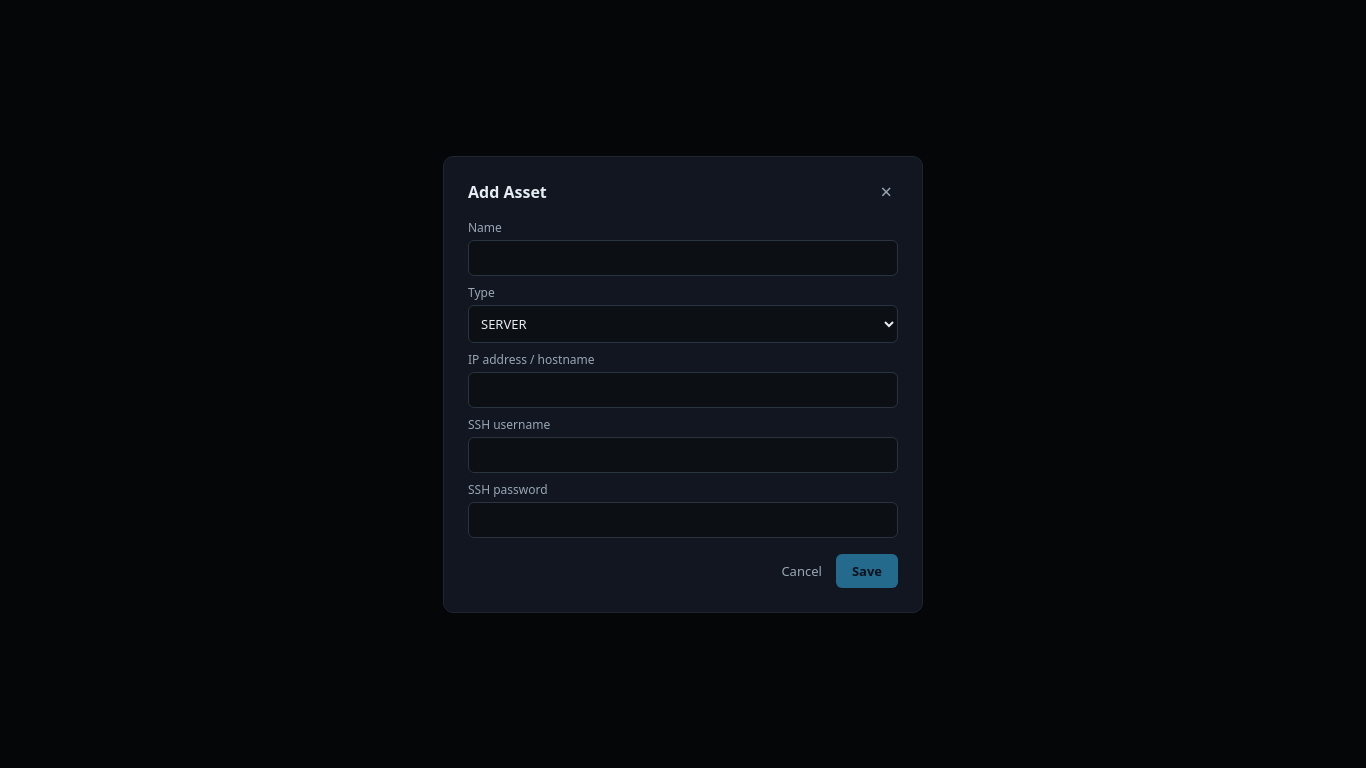
CreateAssetModalComponent › shows a general error for a non-409 failure and keeps the modal open
Type "web-server-01" into the field with test id "form-name".
click(683, 258); type("web-server-01")  # box [468,240,898,276]
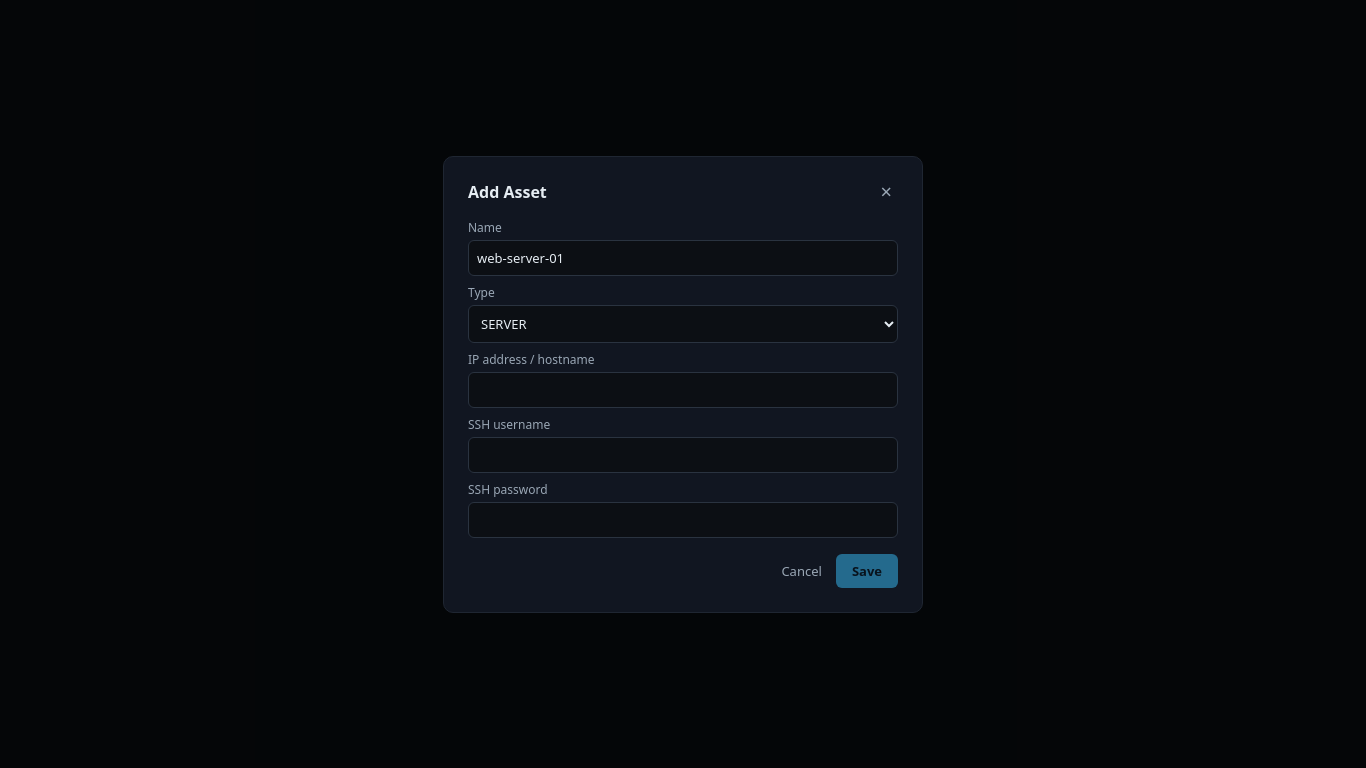
Select "SERVER" in the dropdown with test id "form-type" at (683, 324), box [468,304,898,342]
Type "192.168.1.10" into the field with test id "form-ip".
click(683, 390); type("192.168.1.10")  # box [468,372,898,408]
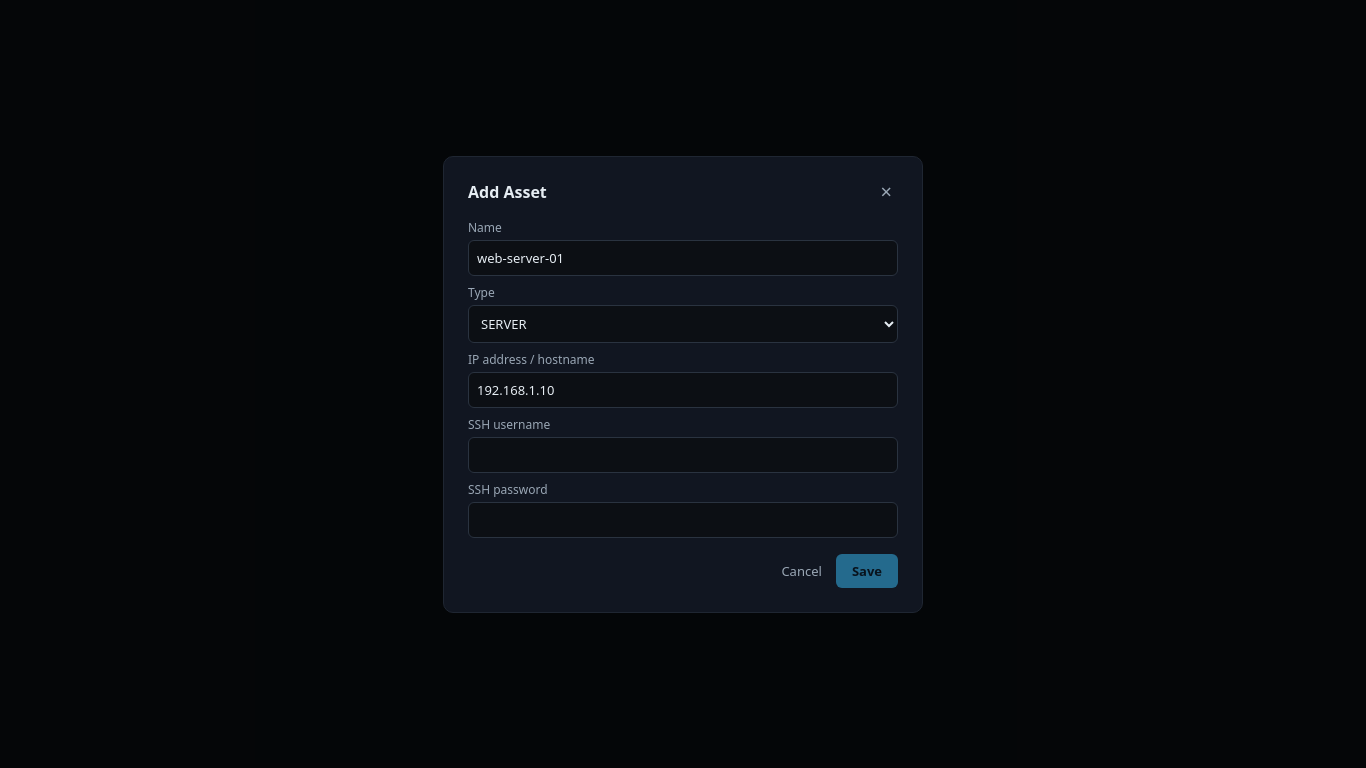
Type "sshuser" into the field with test id "form-username".
click(683, 454); type("sshuser")  # box [468,436,898,472]
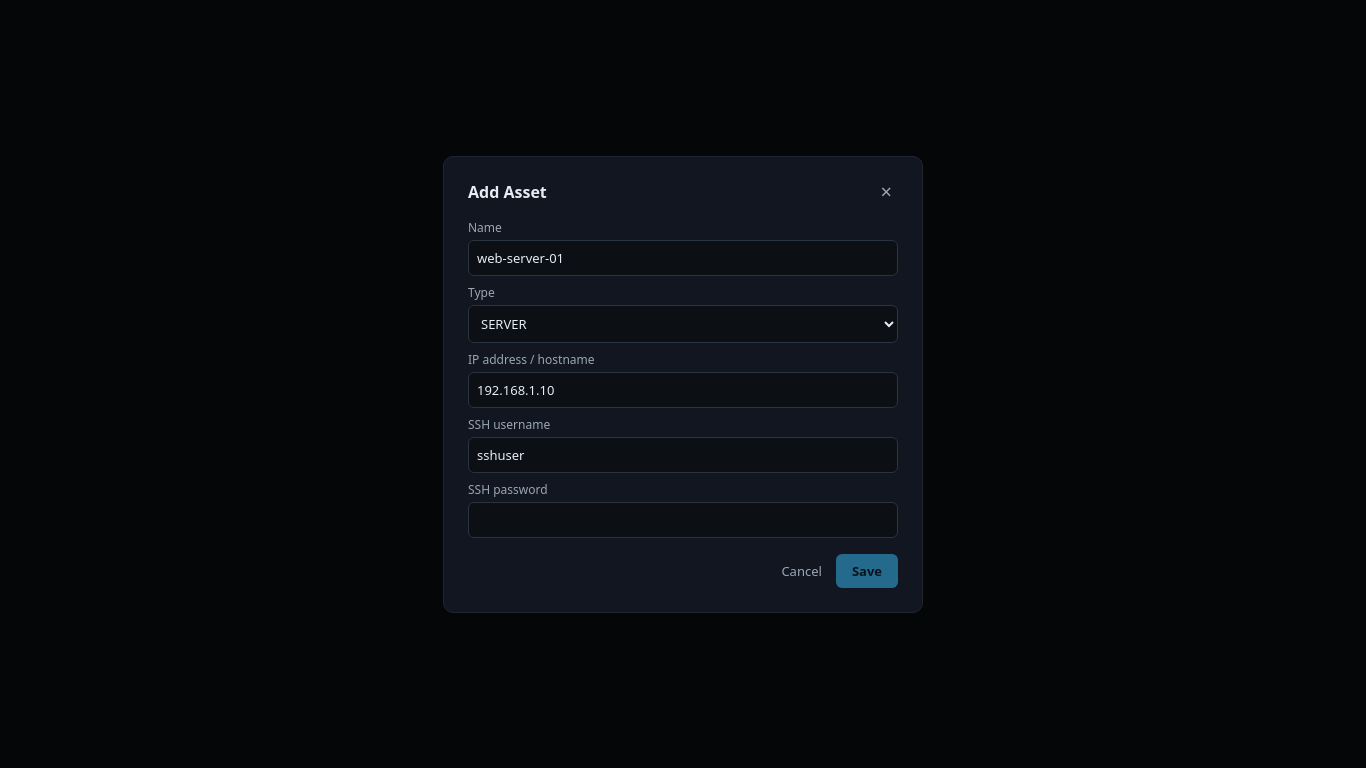
Type "secret" into the password field with test id "form-password".
click(683, 520); type("secret")  # box [468,502,898,538]
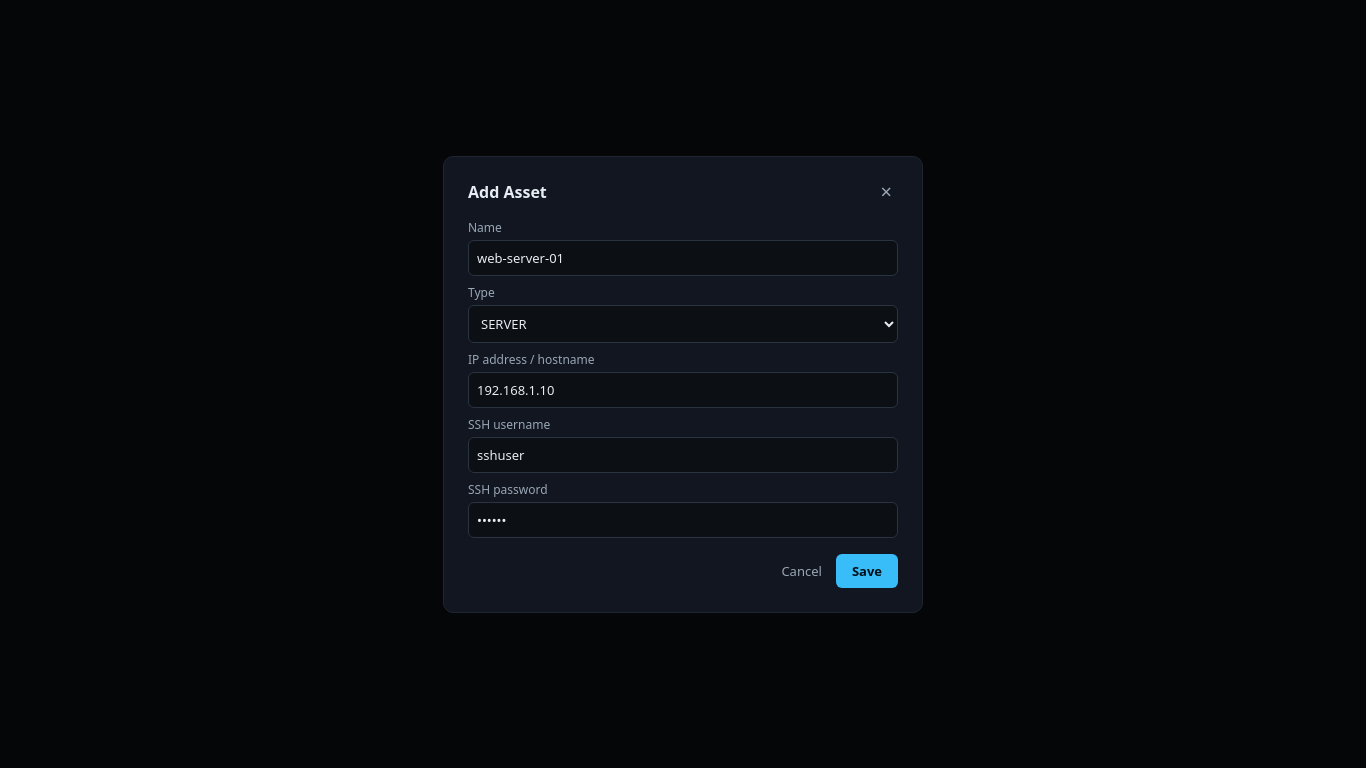
Click the button with test id "modal-submit".
click(867, 570)  # box [836,554,898,588]
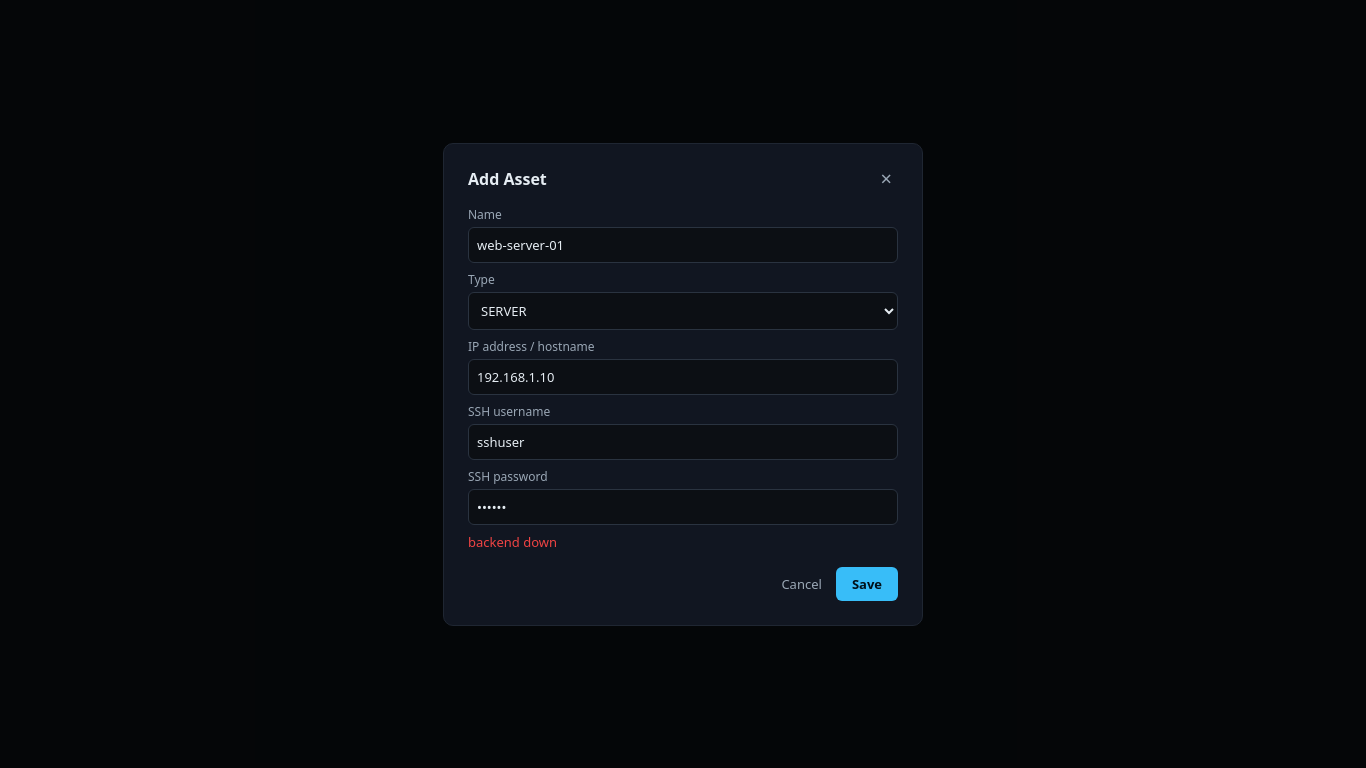
expect the message with test id "form-error" reads "backend down": met, box [468,532,557,550]
